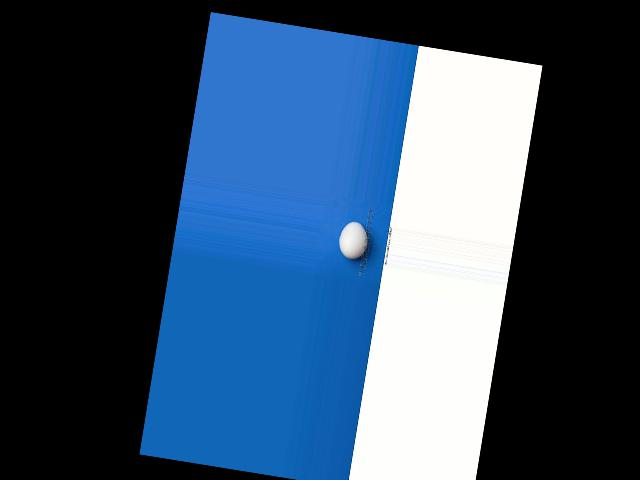egg: (337, 220, 371, 261)
